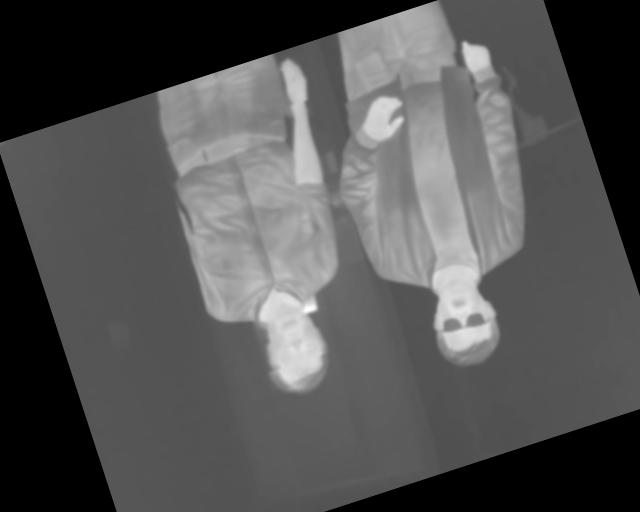face: (419, 268, 511, 376), (251, 295, 340, 402)
